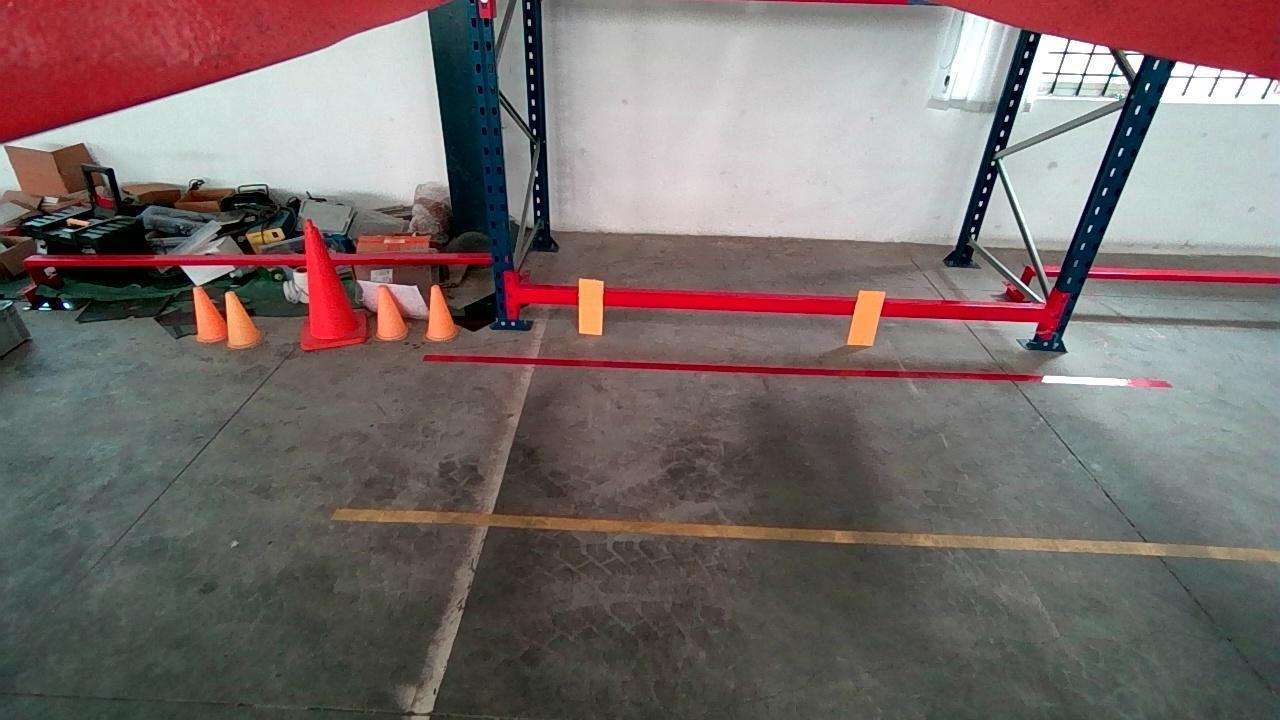h_rack: (522, 285, 1052, 325)
orange_strip: (850, 288, 887, 346), (579, 281, 605, 334)
red_line: (328, 509, 1279, 564), (422, 349, 1169, 386)
